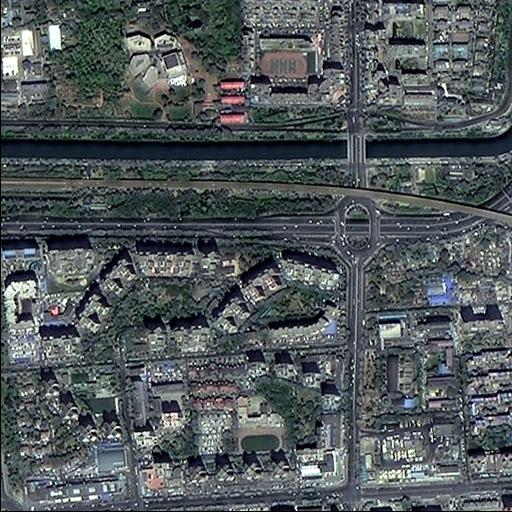school: (232, 394, 289, 453), (254, 30, 319, 79), (66, 369, 121, 414)
